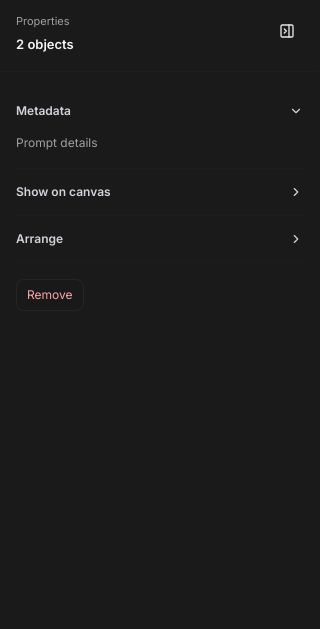
Test: shows metadata first and applies mixed fields to selected assets
Expected: the text "Prompt details" is shown, [16,134,98,150]
Expected: the checkbox labelled "Model" is not shown
Click the button "Show on canvas".
click(63, 191)  # box [16,168,303,214]
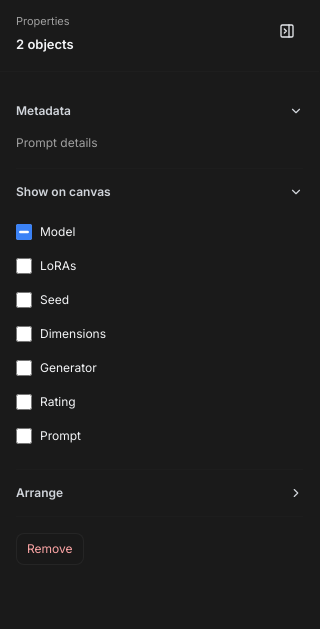
Click the checkbox labelled "Model".
click(24, 232)  # box [16,224,32,240]
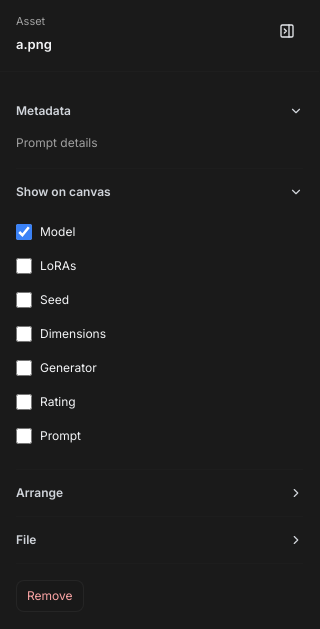
Expected: the heading "a.png" is shown, [16,35,52,54]
